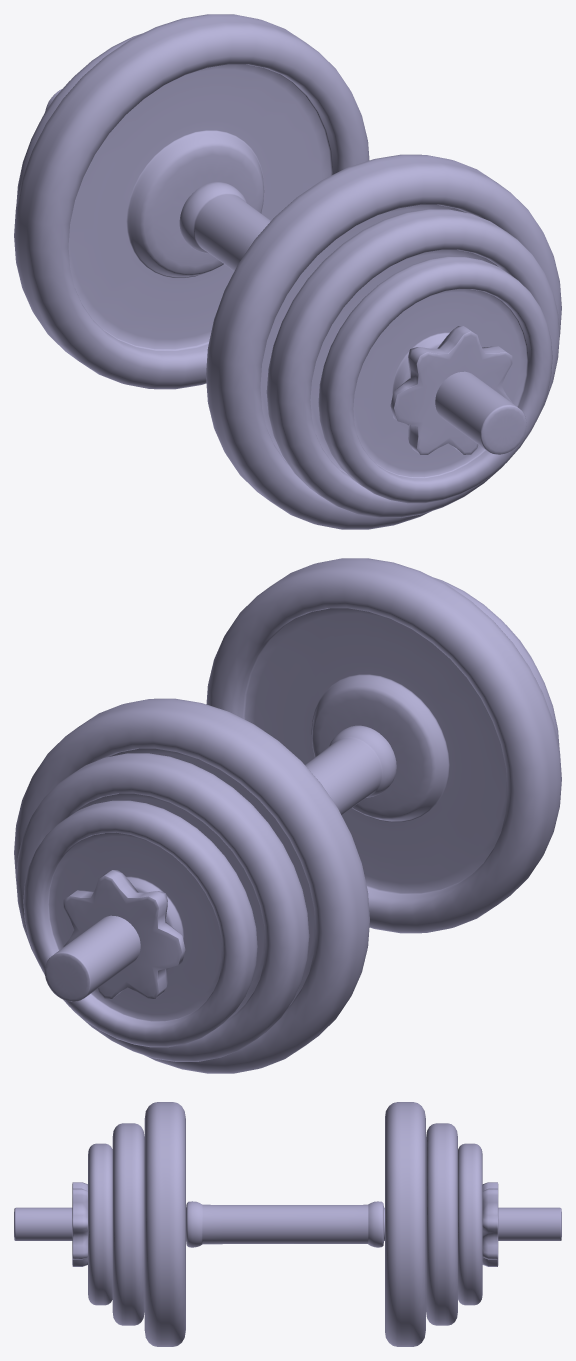
File: dumbbell-transformed.glb
3 renders of one model, top to bottom at view 1: azimuth 30°, elevation 25°; view 2: azimuth 150°, elevation 25°; view 3: azimuth 270°, elevation 25°, orthographic. The views are drawn at different scales.
Visible parts, largest first — view 1: pCylinder7, pCylinder8, pCylinder1; view 2: pCylinder8, pCylinder7, pCylinder1; view 3: pCylinder7, pCylinder8, pCylinder1.
Boxes of the visible parts, x1=… form: pCylinder7: x1=206, y1=154, x2=561, y2=529; pCylinder8: x1=14, y1=14, x2=369, y2=389; pCylinder1: x1=45, y1=89, x2=526, y2=454; pCylinder8: x1=14, y1=698, x2=369, y2=1073; pCylinder7: x1=206, y1=558, x2=561, y2=933; pCylinder1: x1=44, y1=725, x2=396, y2=1001; pCylinder7: x1=72, y1=1102, x2=185, y2=1346; pCylinder8: x1=385, y1=1102, x2=498, y2=1346; pCylinder1: x1=14, y1=1201, x2=561, y2=1247.
Size of the model in its own units: 29.31 by 29.31 by 65.56.
